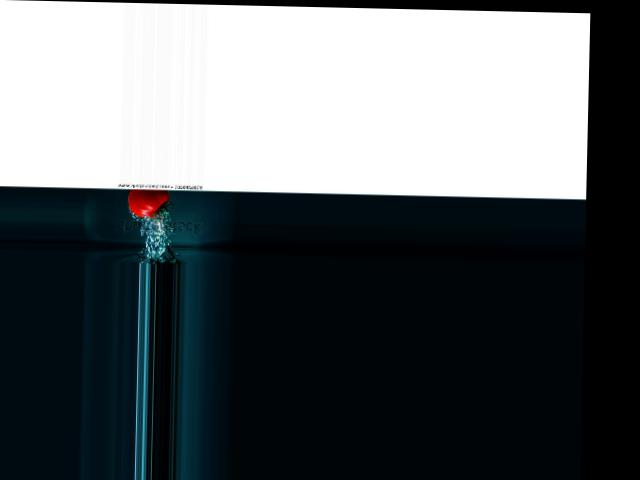tomato: (128, 189, 170, 218)
